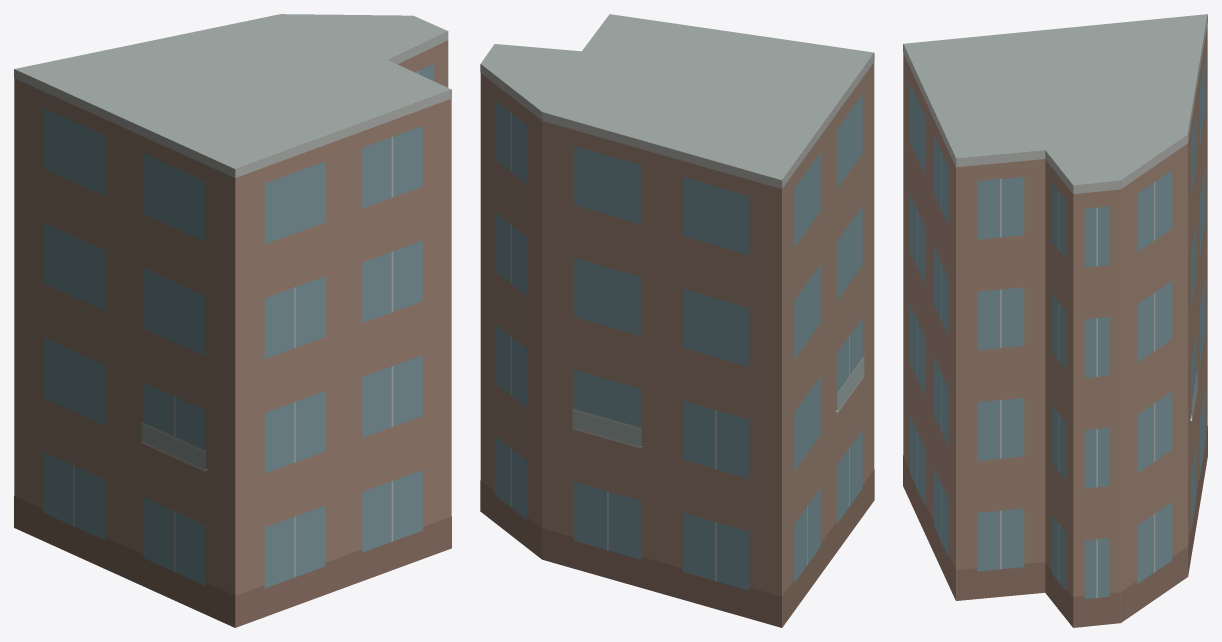
The model's file is survey-upis-32616760.glb.
3 views of the same model, side by side, from view 1: azimuth 30°, elevation 25°; view 2: azimuth 150°, elevation 25°; view 3: azimuth 270°, elevation 25° (orthographic). The views are drawn at different scales.
Parts seen in each view (by area): view 1: survey-upis-32616760.tmp; view 2: survey-upis-32616760.tmp; view 3: survey-upis-32616760.tmp.
Boxes of the visible parts, x1=… form: survey-upis-32616760.tmp: x1=14, y1=14, x2=451, y2=627; survey-upis-32616760.tmp: x1=480, y1=14, x2=874, y2=627; survey-upis-32616760.tmp: x1=903, y1=14, x2=1207, y2=627.
Bounding box in the file's own units: 10.32 × 12.4 × 7.75.
